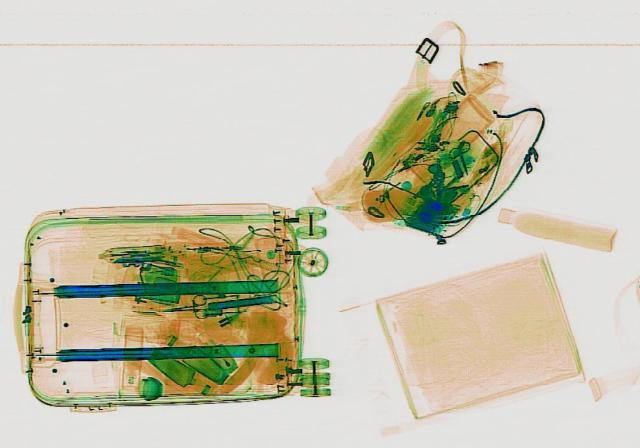Scissors: (156, 291, 212, 322)
